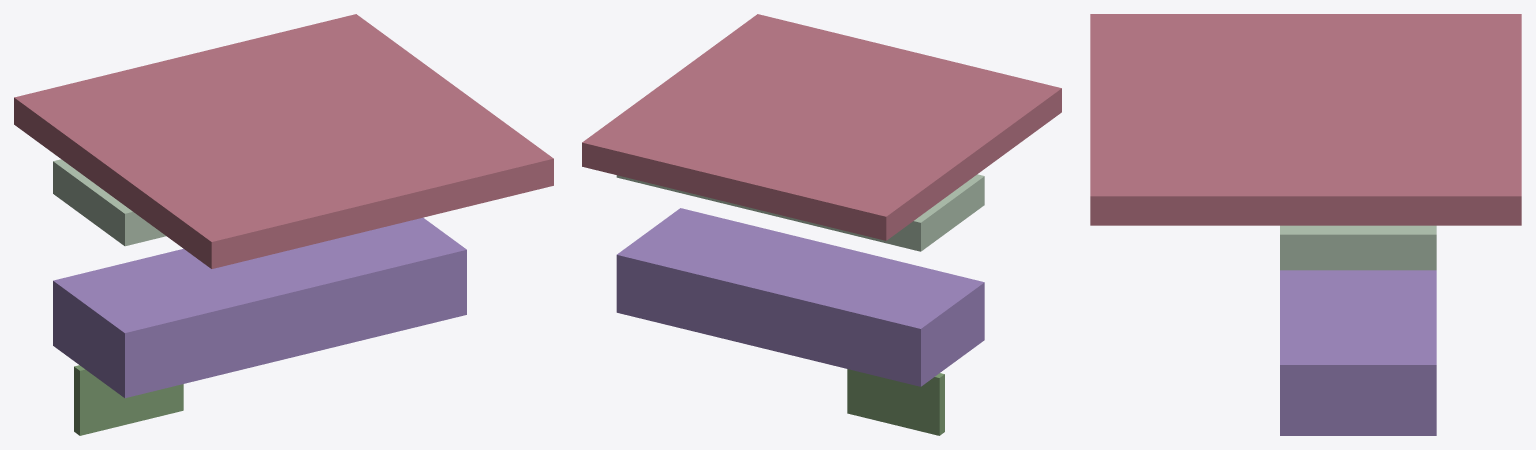
Rendered from 199516_pred.glb.
3 views of the same model, side by side, from view 1: azimuth 30°, elevation 25°; view 2: azimuth 150°, elevation 25°; view 3: azimuth 270°, elevation 25° (orthographic). The views are drawn at different scales.
Visible parts, largest first — view 1: world; view 2: world; view 3: world.
Part boxes in pixels (box(x1,y1,x2,y2)): world: box(14, 14, 553, 435); world: box(582, 14, 1061, 435); world: box(1090, 14, 1521, 435).
Size of the model in its own units: 6.6 by 5.35 by 6.6.
